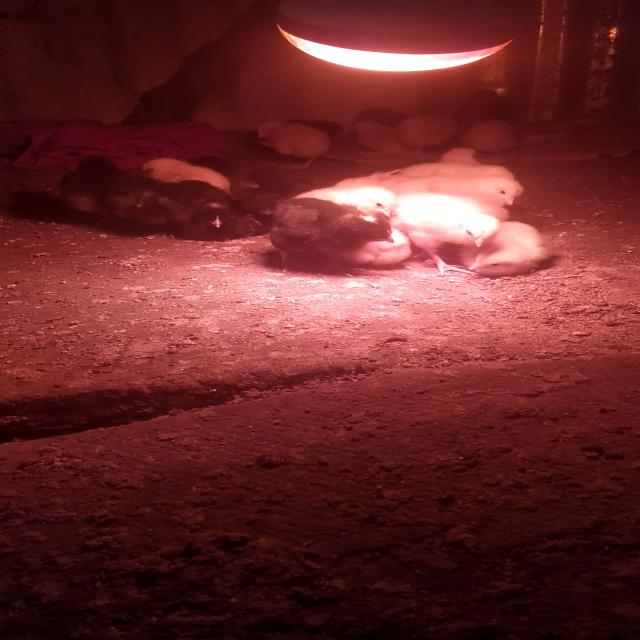chick: (267, 196, 399, 276), (393, 192, 502, 277), (252, 118, 332, 172)
